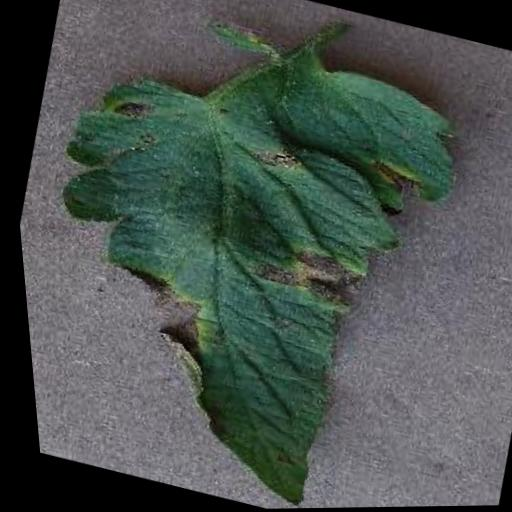Early Blight: (0, 0, 496, 512)
